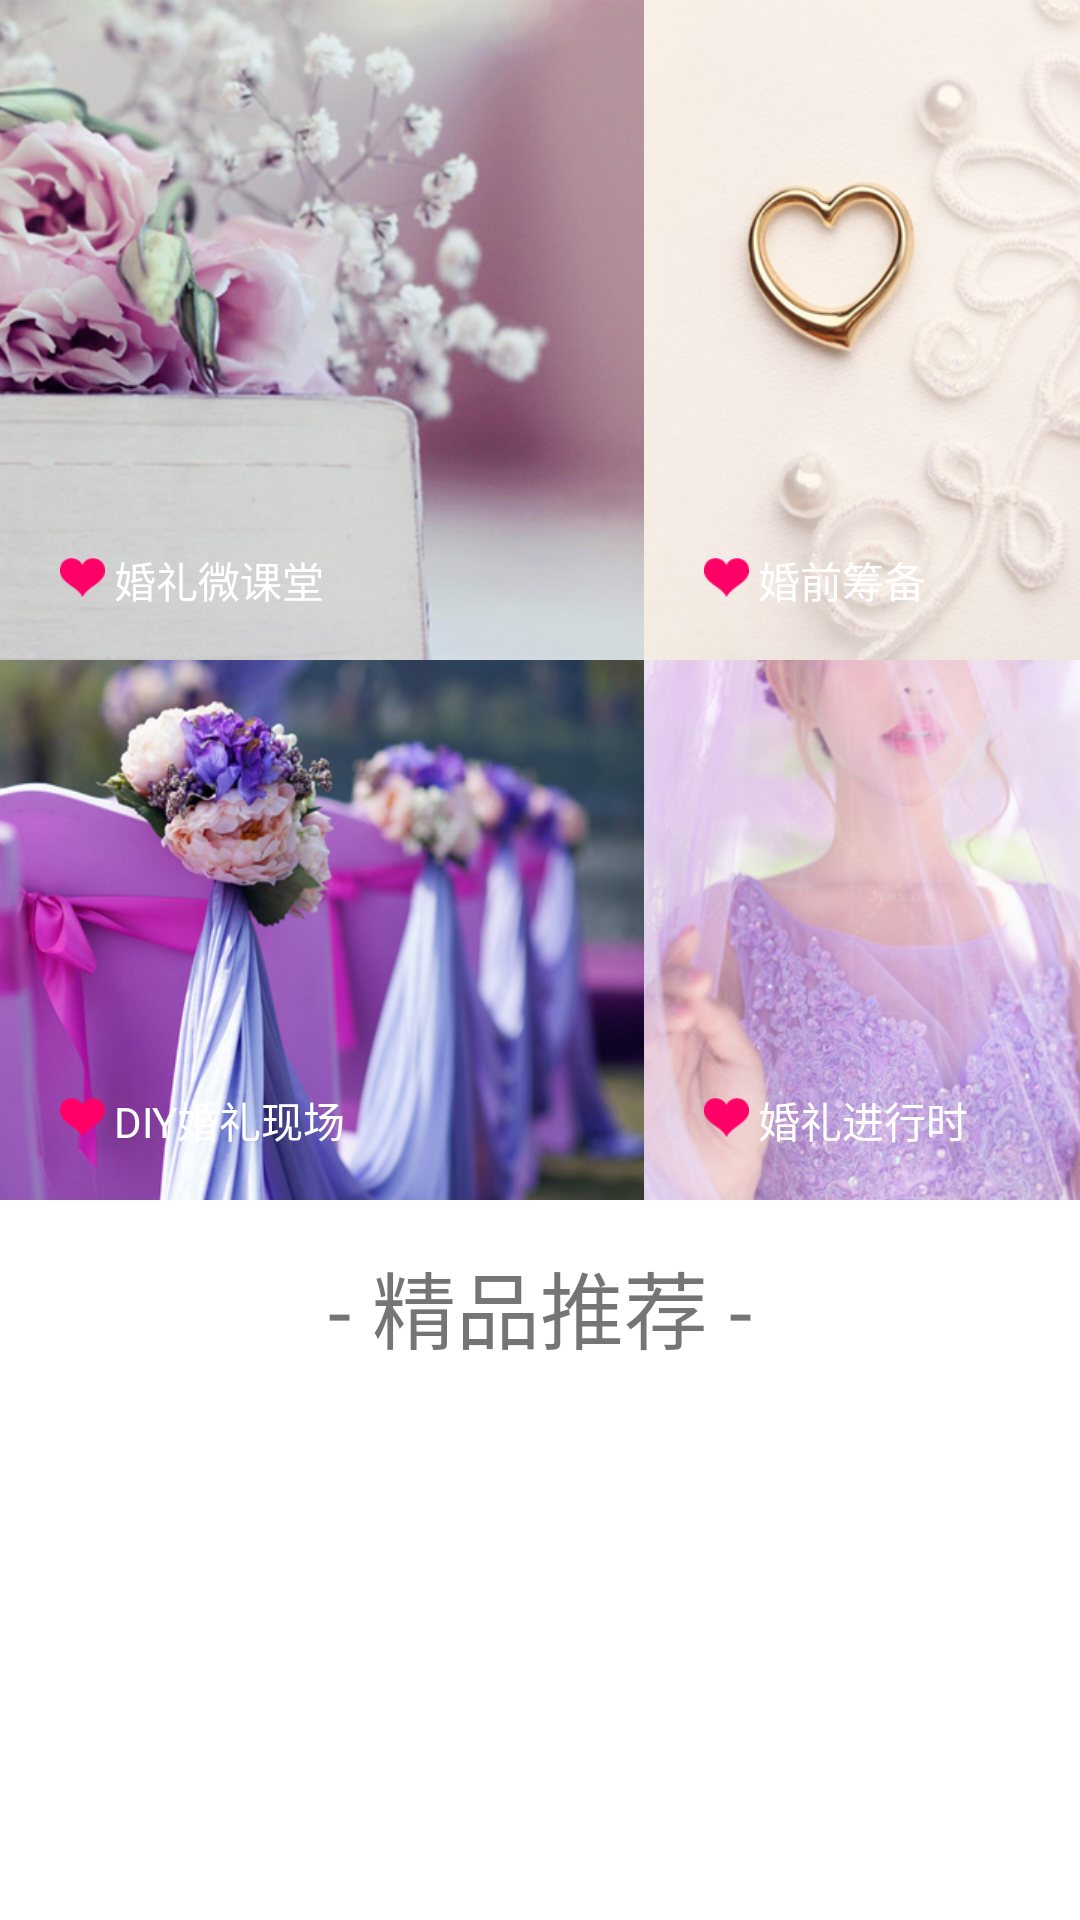

Screen size 1080 x 1920. Icon name, then its box in pixels as (x1, y1, x2, y2):
heart: (60, 558, 105, 597), (704, 558, 749, 597), (60, 1095, 105, 1140), (704, 1095, 749, 1137)
